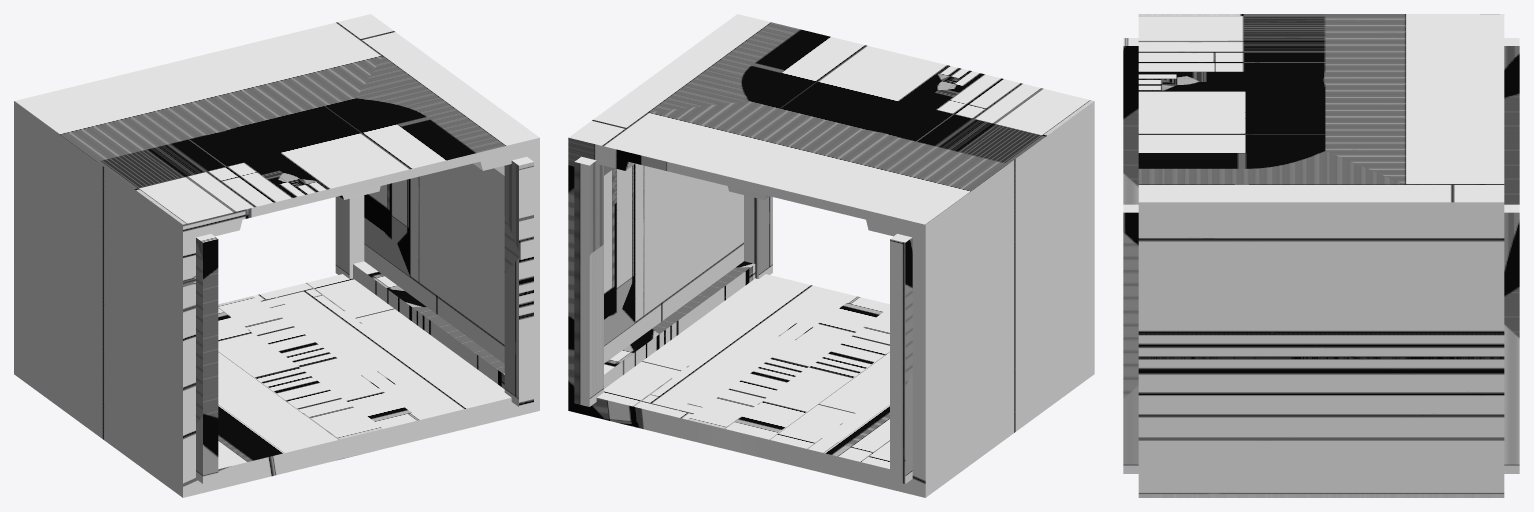
File: tuuro_NoWindow.fbx
The picture shows the model from 3 angles, left to right: view 1: azimuth 30°, elevation 25°; view 2: azimuth 150°, elevation 25°; view 3: azimuth 270°, elevation 25°; orthographic projection. The views are drawn at different scales.
Visible parts, largest first — view 1: Cube.010; view 2: Cube.010; view 3: Cube.010.
Boxes of the visible parts, box(x1,y1,x2,y2) form: Cube.010: box(14, 14, 539, 497); Cube.010: box(568, 14, 1094, 497); Cube.010: box(1123, 14, 1519, 497).
Size of the model in its own units: 341 by 249 by 303.
Materials: 1 (1 with a texture image).
